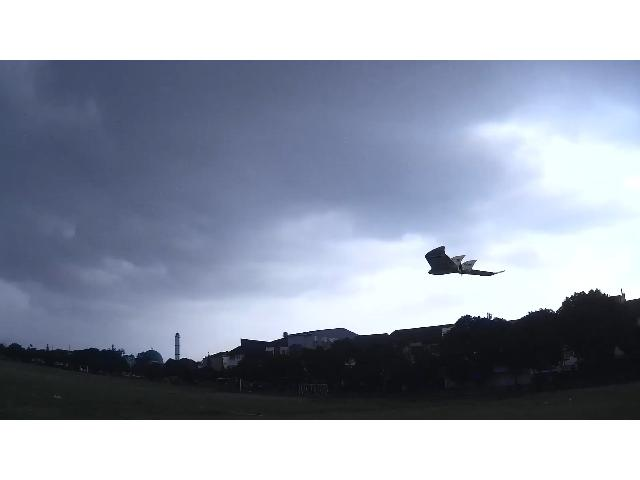Anti-Drone: (425, 246, 505, 276)
